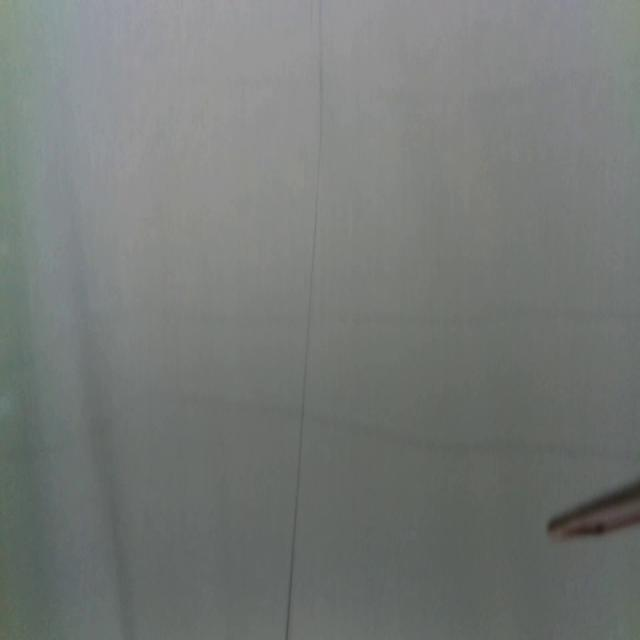color bleeding: (0, 382, 640, 470), (139, 293, 640, 333)
crease: (284, 4, 326, 640)
